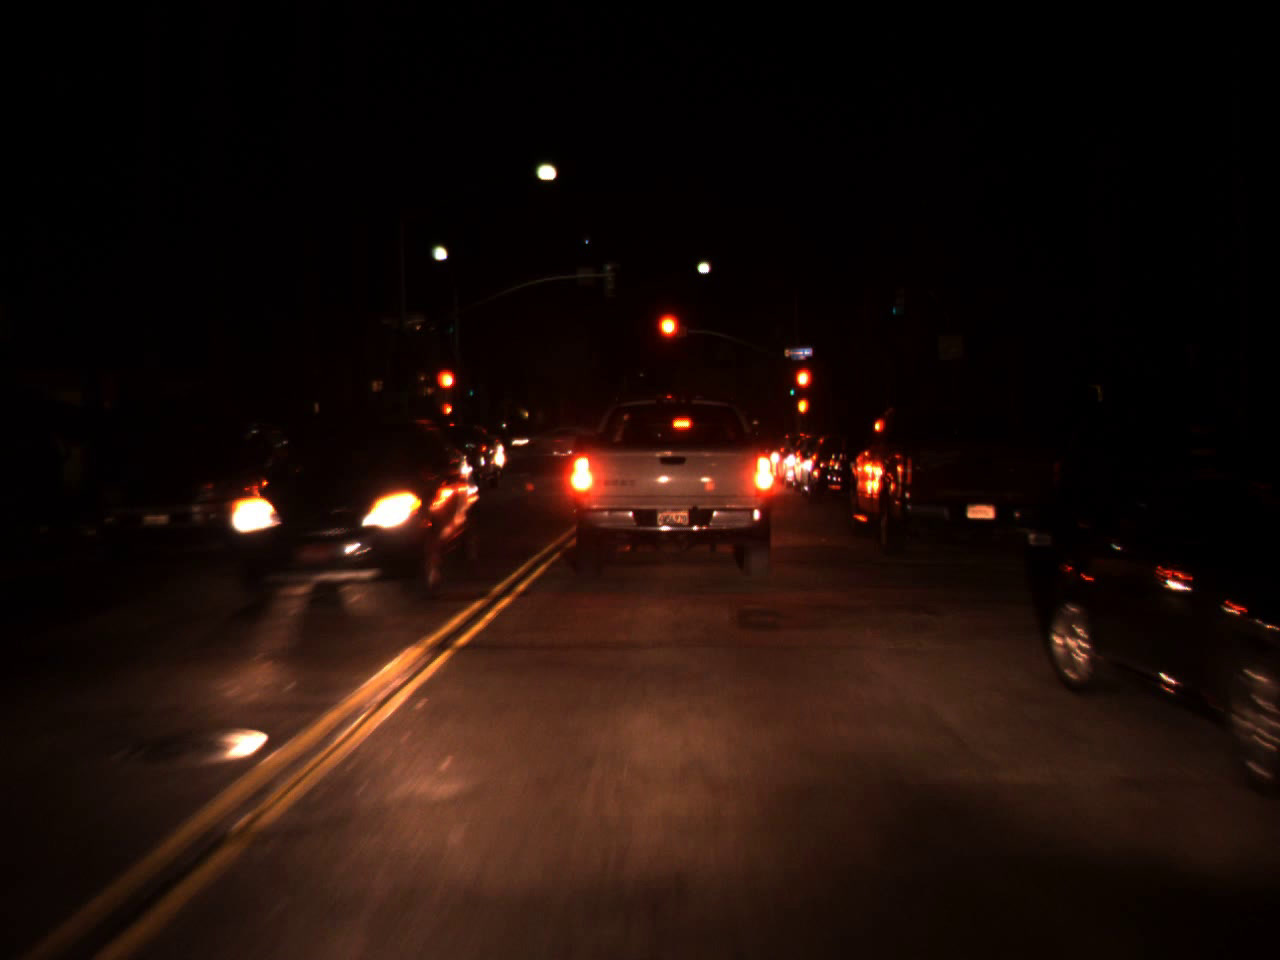stop: (654, 311, 682, 365), (434, 368, 458, 411), (792, 365, 813, 410)
